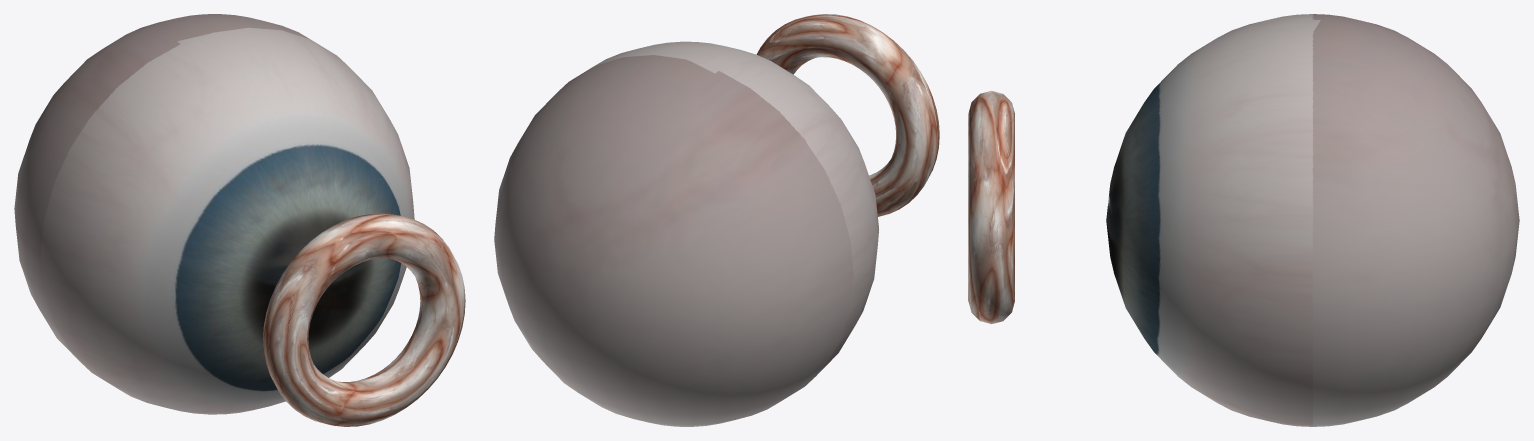
Rendered from Eye Shooters.fbx.
3 views of the same model, side by side, from view 1: azimuth 30°, elevation 25°; view 2: azimuth 150°, elevation 25°; view 3: azimuth 270°, elevation 25° (orthographic). The views are drawn at different scales.
Parts seen in each view (by area): view 1: small-eye, eye shot.001; view 2: small-eye, eye shot.001; view 3: small-eye, eye shot.001.
Boxes of the visible parts, x1,y1,x2,y2 form: small-eye: (14, 14, 414, 414); eye shot.001: (263, 213, 465, 426); small-eye: (494, 41, 878, 426); eye shot.001: (756, 14, 939, 216); small-eye: (1106, 14, 1519, 426); eye shot.001: (968, 90, 1014, 324).
Size of the model in its own units: 146 by 146 by 195.
